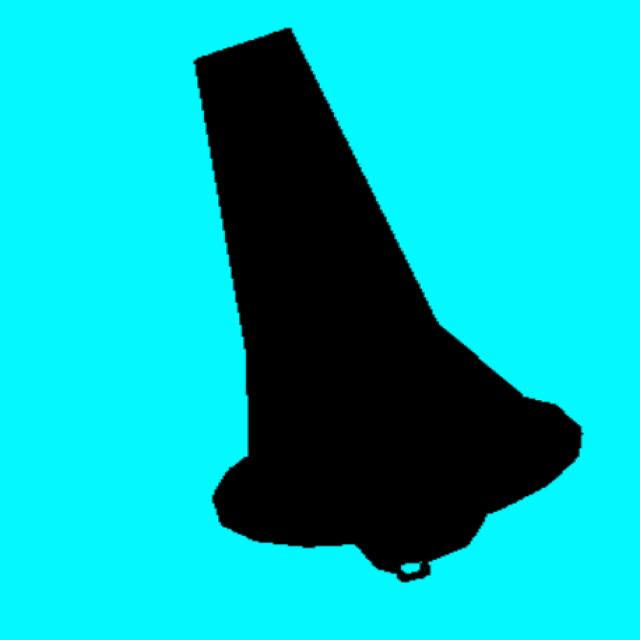BlackBuoy: (196, 29, 581, 581)
